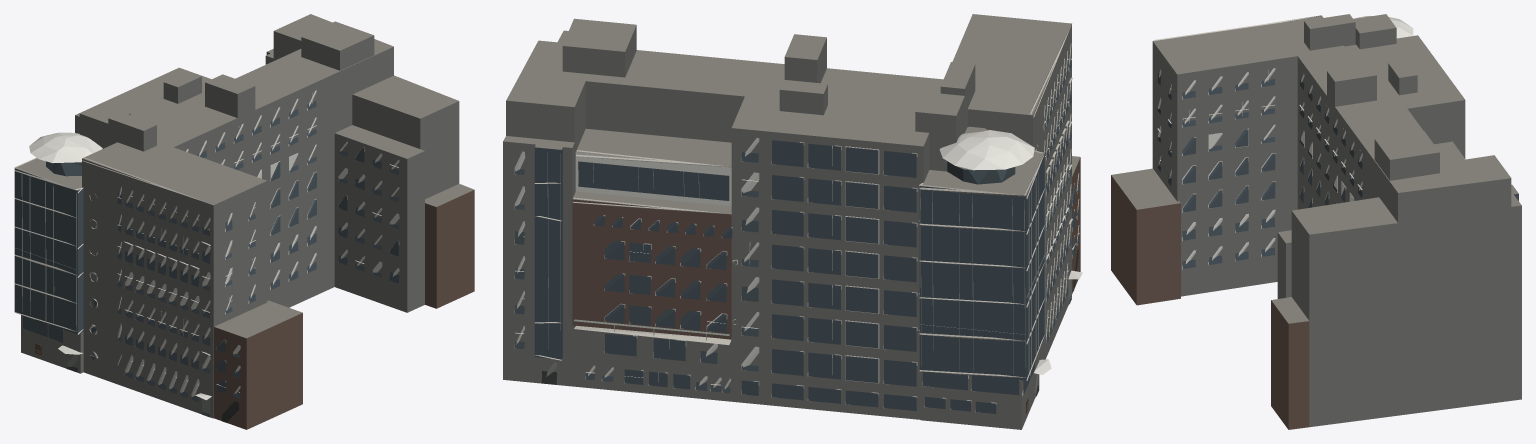
The model's file is joodse-invalide.lod1.glb.
3 views of the same model, side by side, from view 1: azimuth 30°, elevation 25°; view 2: azimuth 150°, elevation 25°; view 3: azimuth 270°, elevation 25° (orthographic). The views are drawn at different scales.
Visible parts, largest first — view 1: joodse-invalide; view 2: joodse-invalide; view 3: joodse-invalide.
Part boxes in pixels (x1,y1,x2,y2): joodse-invalide: (14,14,474,429); joodse-invalide: (503,14,1082,429); joodse-invalide: (1111,14,1521,429).
Size of the model in its own units: 63.03 by 35 by 52.59.
